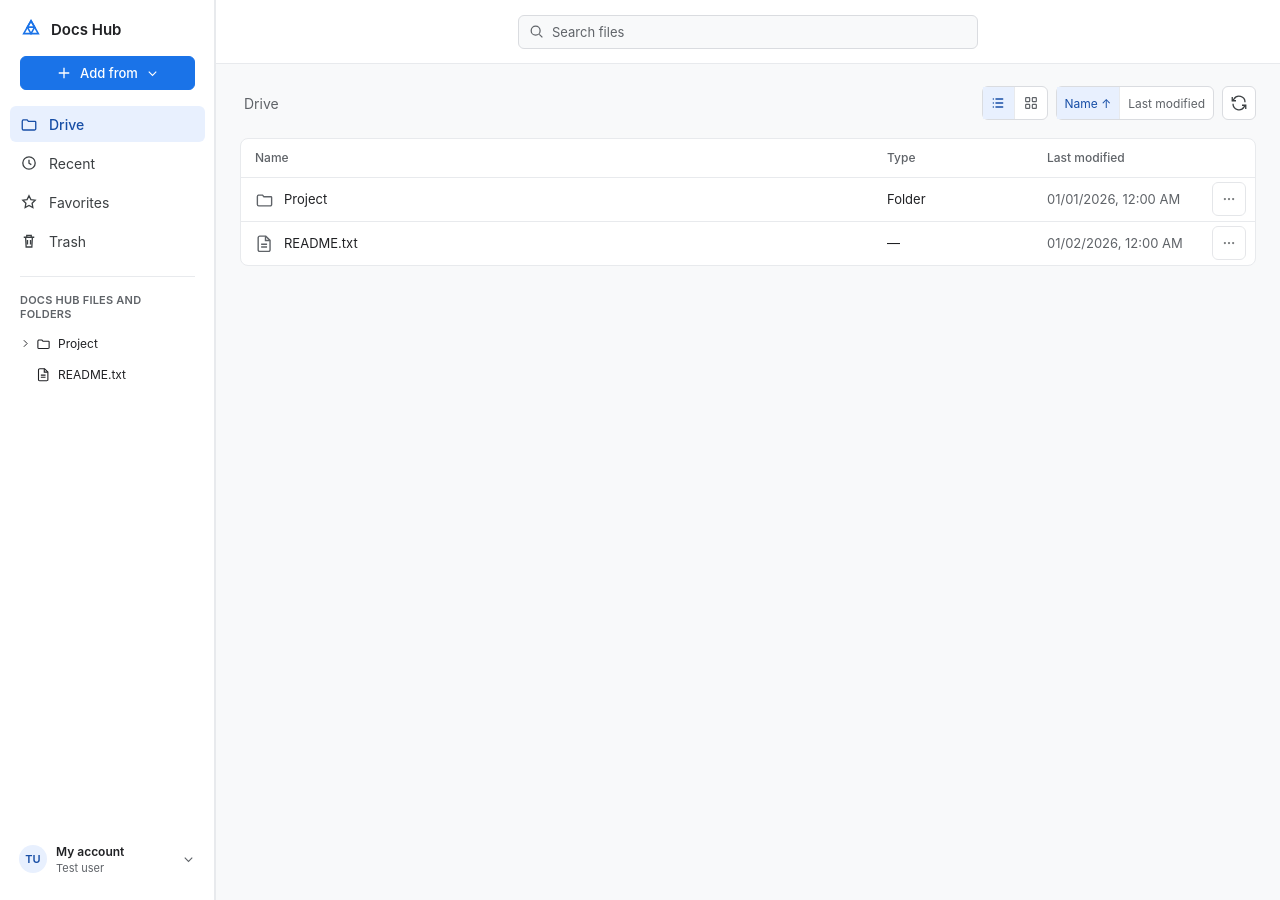
Test case: file browser UX › uses shared toolbar sort controls in list and grid views without sortable headers or attribution
Click the button named "Grid view": click(1030, 103) [1014,87,1046,119]
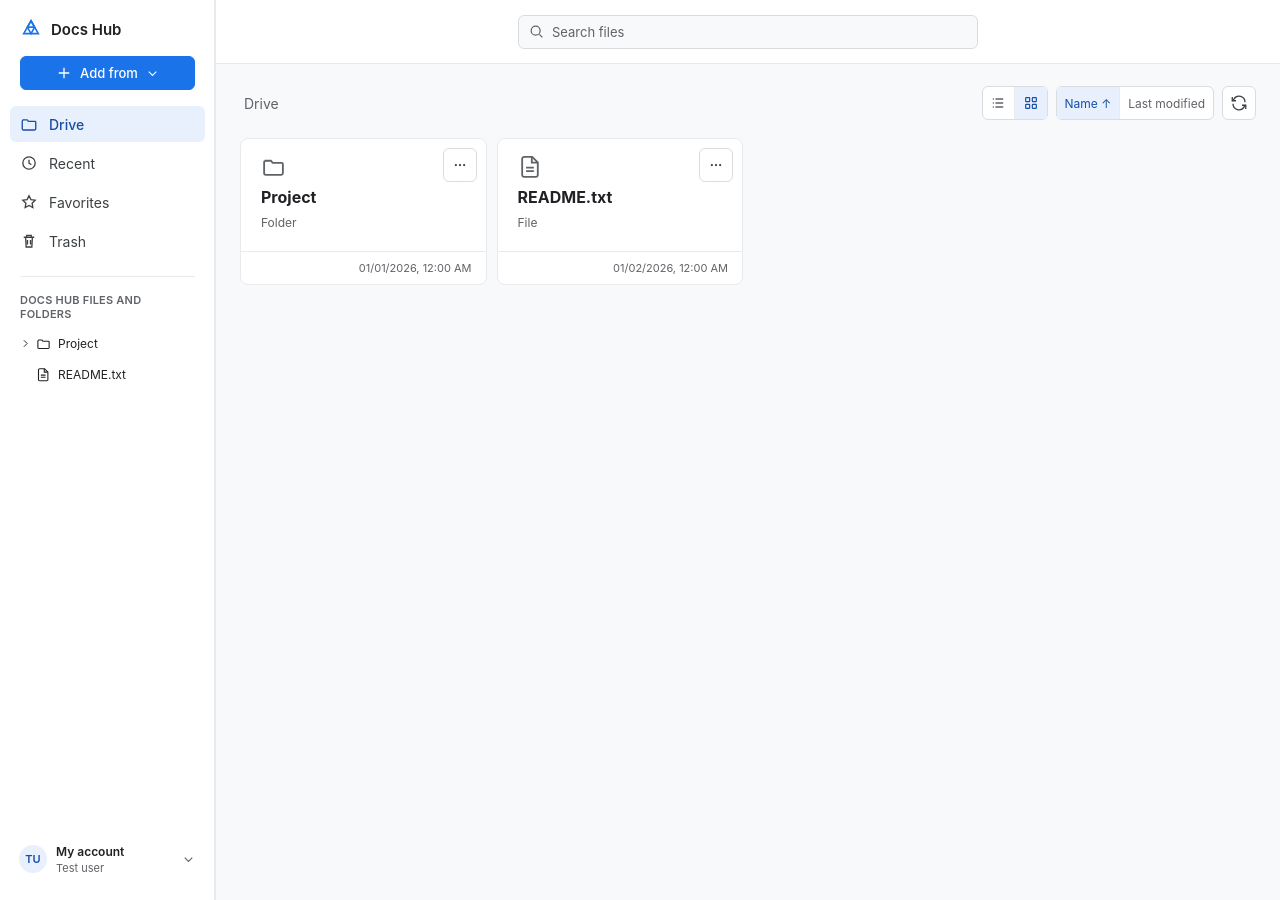
expect the element with class "file-grid" is shown: met, box [240,138,743,285]
